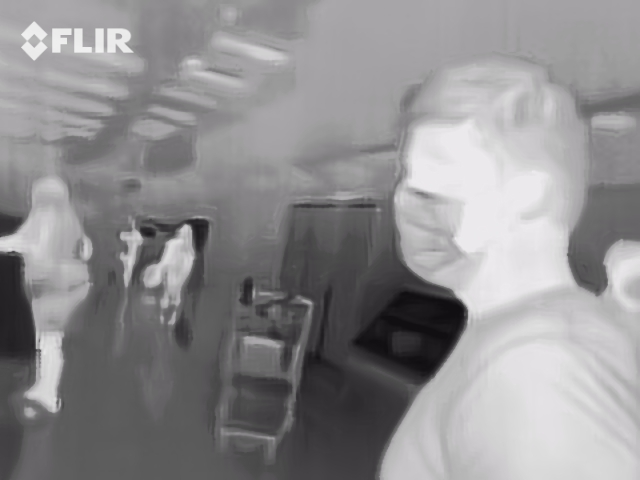head: (391, 53, 589, 292), (601, 236, 640, 308)
